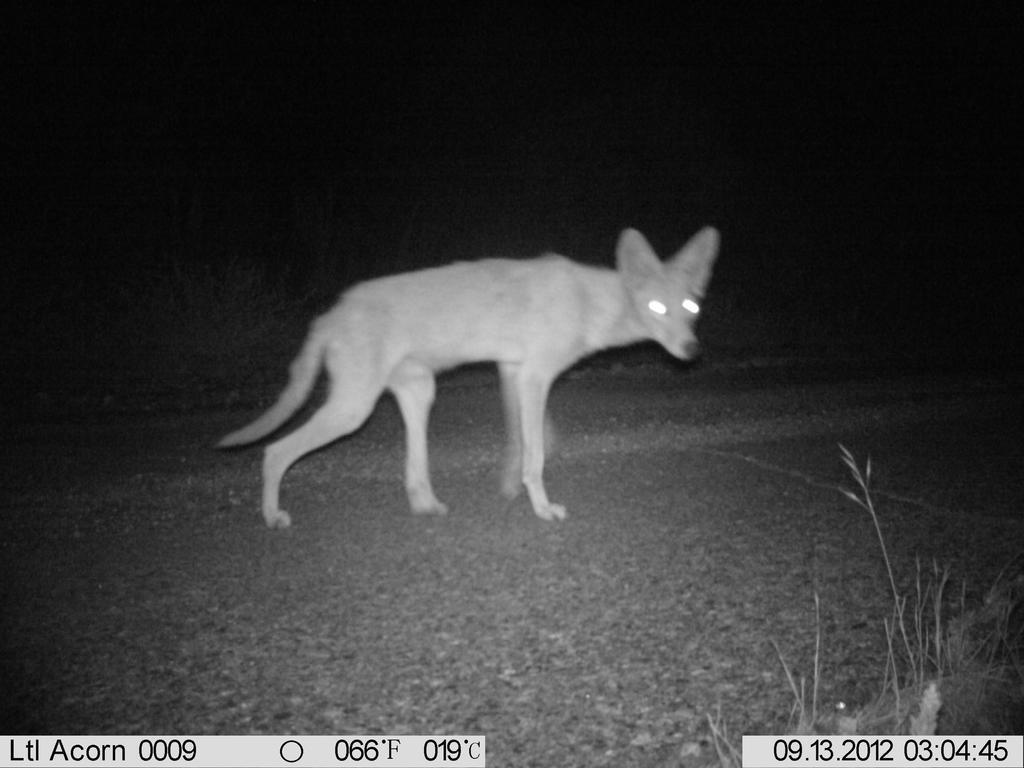coyote: (218, 222, 729, 541)
